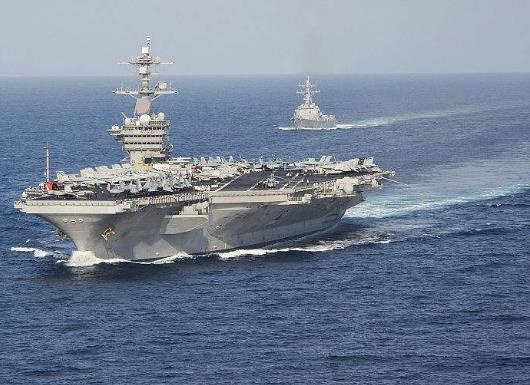warship: (12, 28, 398, 272), (289, 75, 347, 131)
